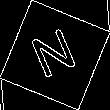N_SE: (27, 24, 83, 86)
